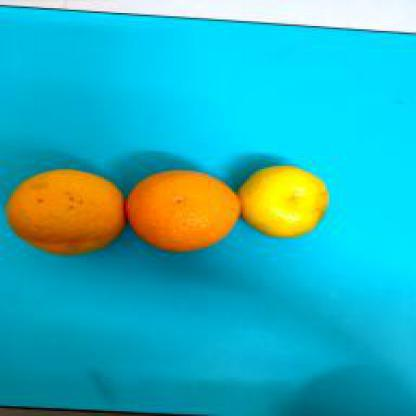orange: (4, 167, 126, 255), (127, 167, 238, 252), (236, 151, 327, 241)
